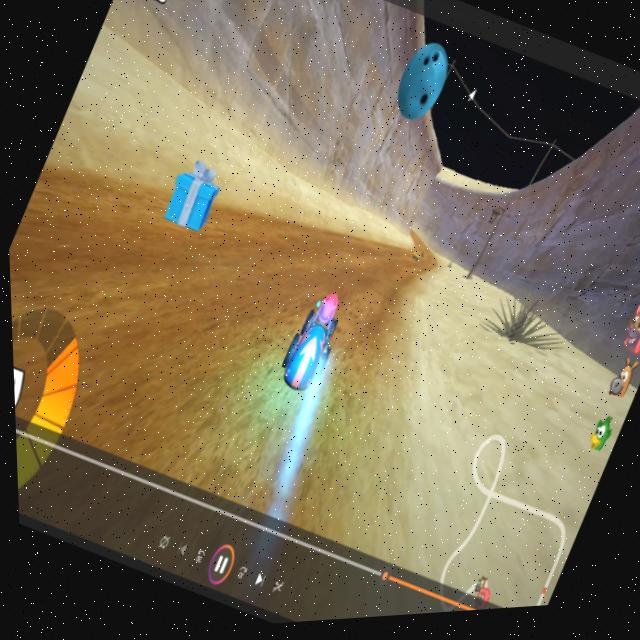bonus: (148, 153, 235, 249)
enemy_kart: (399, 251, 422, 272)
off_track: (386, 213, 630, 469)
player_kart: (266, 289, 357, 408)
track: (309, 224, 428, 318)
